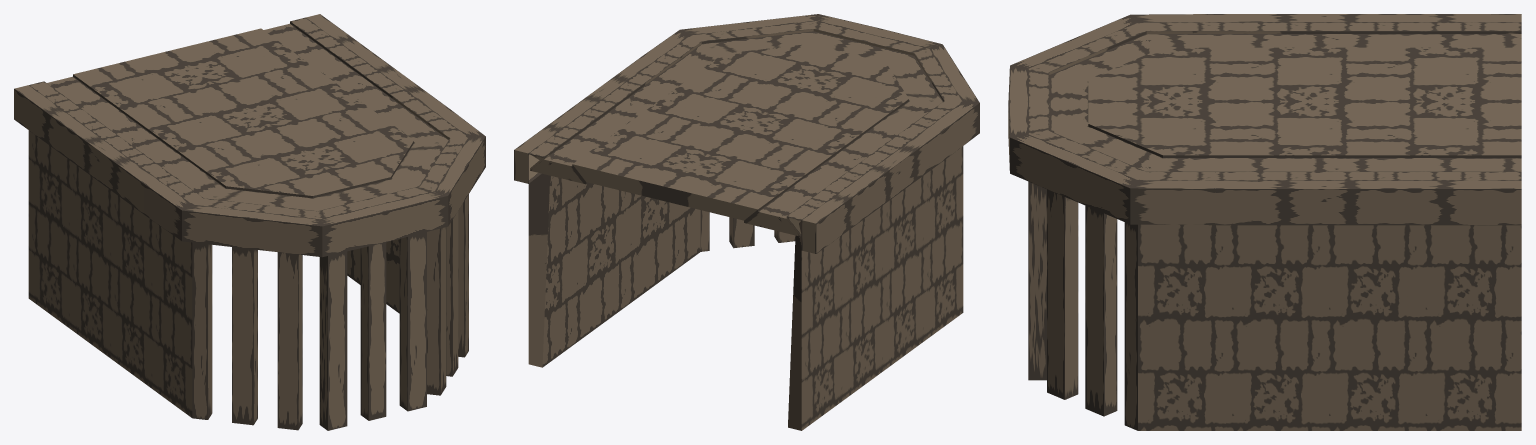
The model's file is plataforma.fbx.
3 renders of one model, left to right at view 1: azimuth 30°, elevation 25°; view 2: azimuth 150°, elevation 25°; view 3: azimuth 270°, elevation 25°, orthographic. The views are drawn at different scales.
Visible parts, largest first — view 1: plataform.007; view 2: plataform.007; view 3: plataform.007.
Boxes of the visible parts, bbox=[...] form: plataform.007: bbox=[14, 14, 485, 430]; plataform.007: bbox=[514, 14, 979, 430]; plataform.007: bbox=[1008, 14, 1521, 430].
Size of the model in its own units: 7046 by 4697 by 8726.
